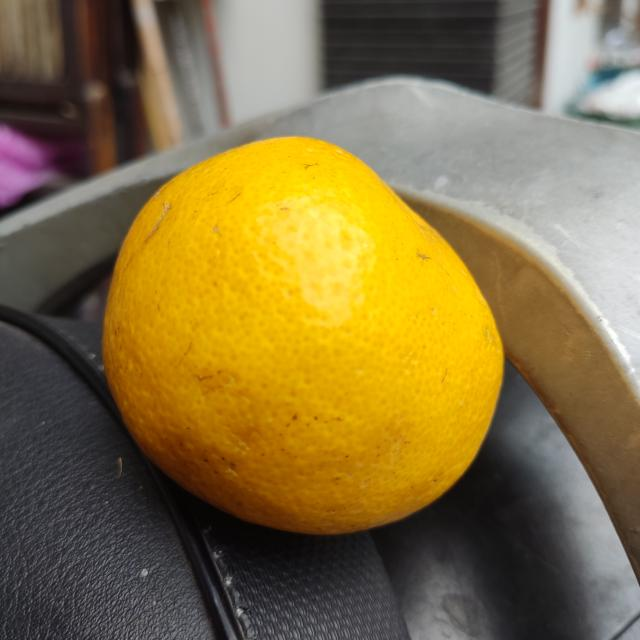orange: (93, 132, 511, 540)
